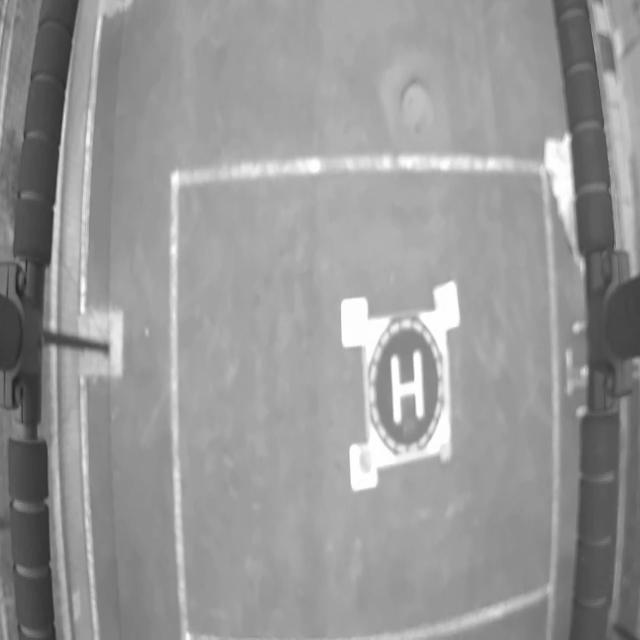Helipad: (390, 350, 425, 425)
